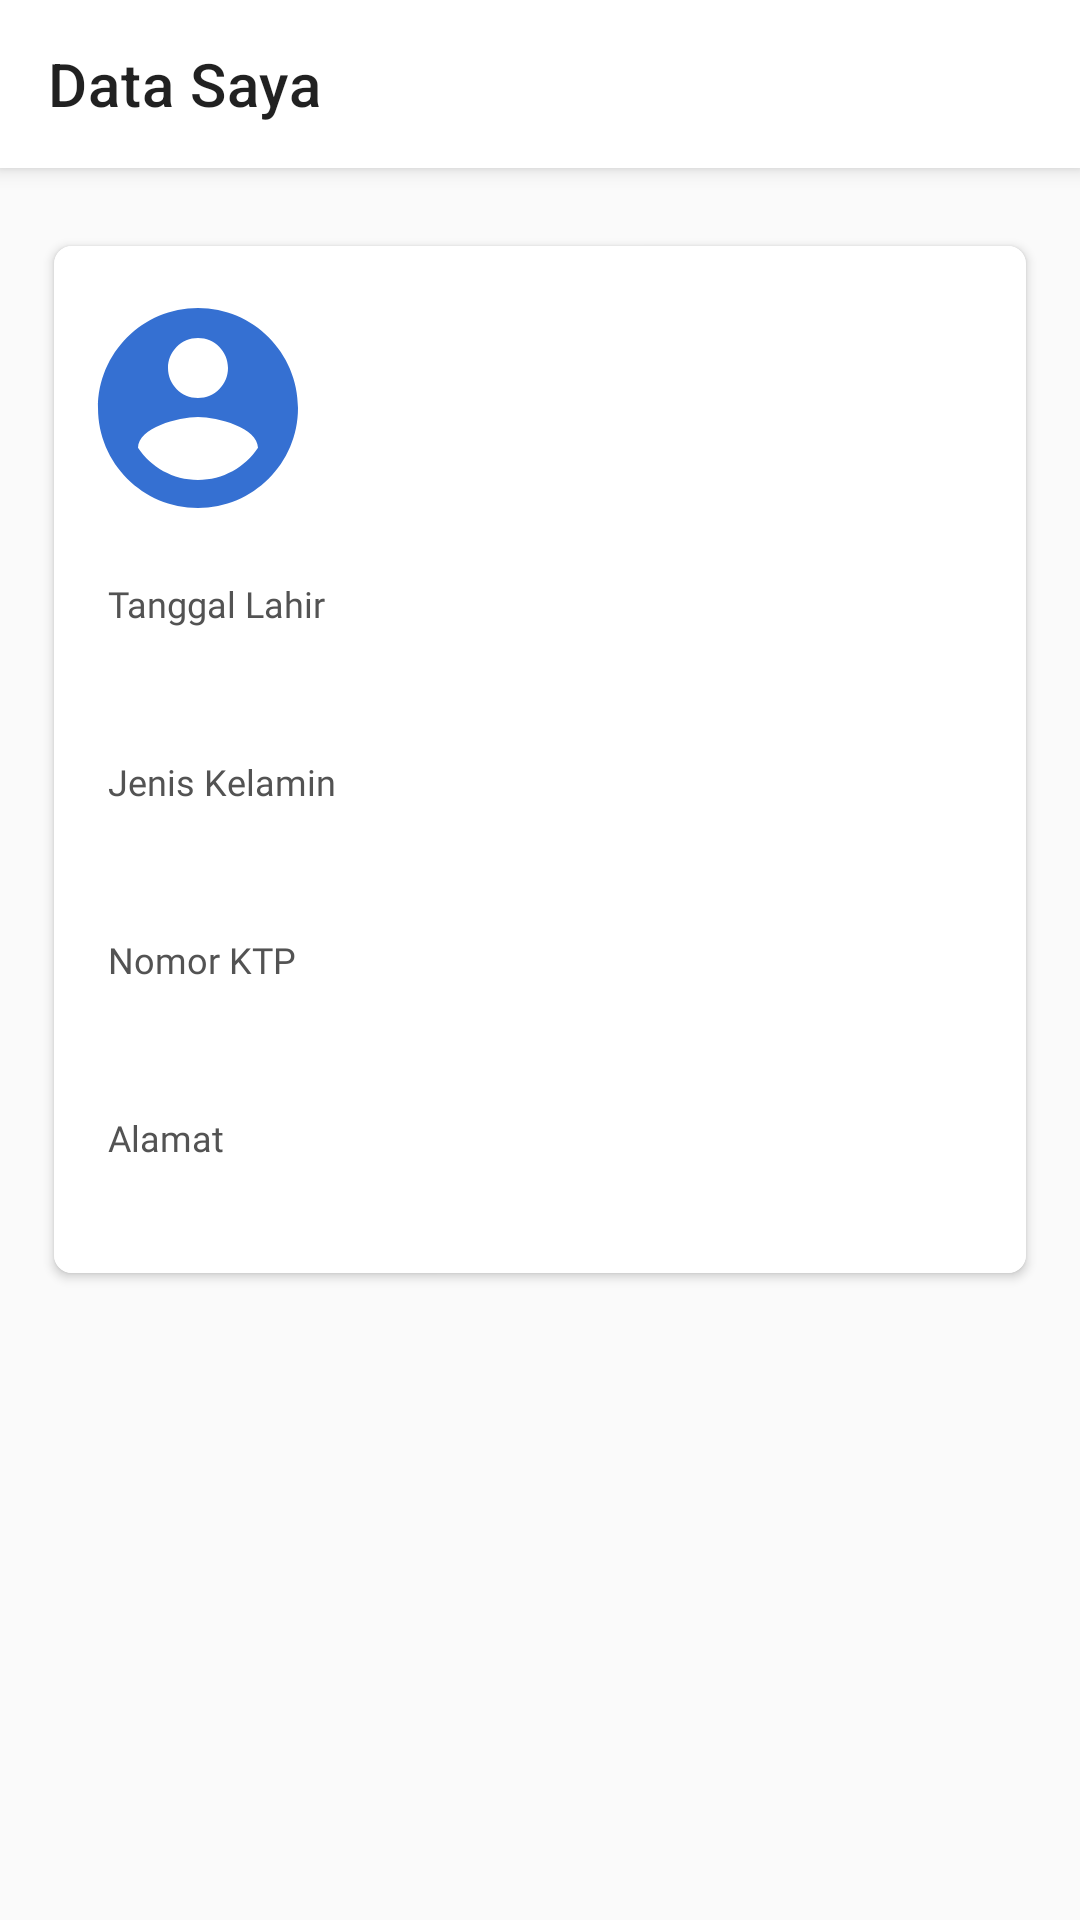

Icon click points for this 1080 × 1920 phone screenshot, format (x=x, y=y):
Image User: (x=198, y=408)
